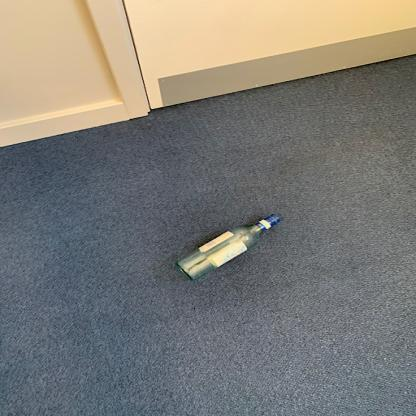trash: (175, 211, 281, 281)
